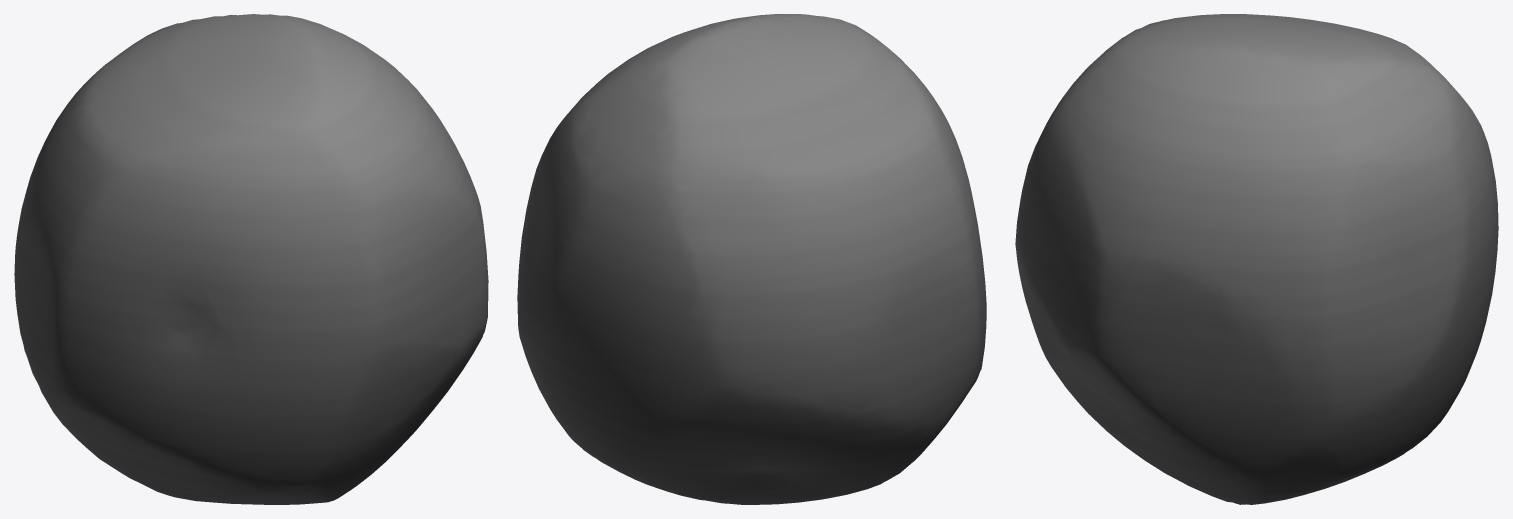
Rendered from Rock-1.fbx.
The picture shows the model from 3 angles, left to right: view 1: azimuth 30°, elevation 25°; view 2: azimuth 150°, elevation 25°; view 3: azimuth 270°, elevation 25°; orthographic projection.
Parts seen in each view (by area): view 1: Rock-1; view 2: Rock-1; view 3: Rock-1.
Boxes of the visible parts, <box> form: Rock-1: <box>14,14,488,504</box>; Rock-1: <box>517,14,986,504</box>; Rock-1: <box>1015,14,1498,504</box>.
Size of the model in its own units: 170 by 175 by 172.
